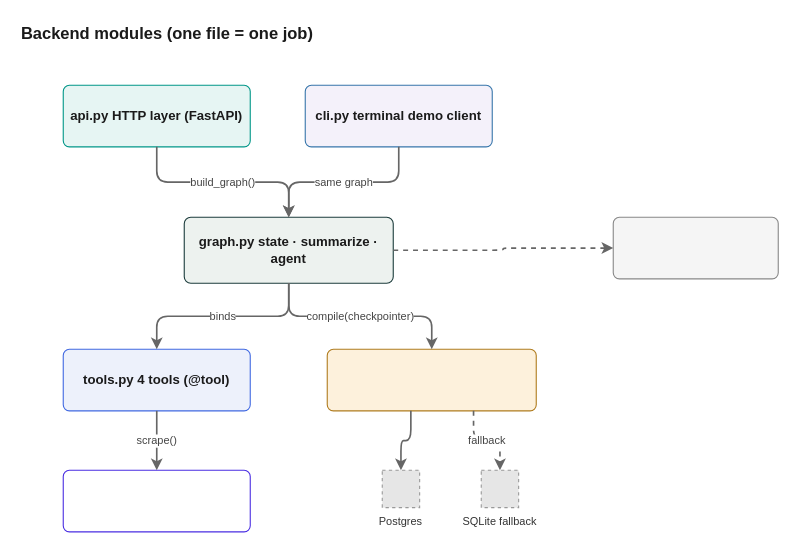
This 798x551 diagram has some shape labels left out. Grey dashed boxes stand in for pictures. Here are the shapes that lost their labels. From the top down, the box of each, then its label:
(612, 216, 778, 279): config.py all settings (.env)
(326, 348, 536, 411): memory.py checkpointer factory
(62, 469, 250, 532): oxylabs_client.py scrape() + mock mode
